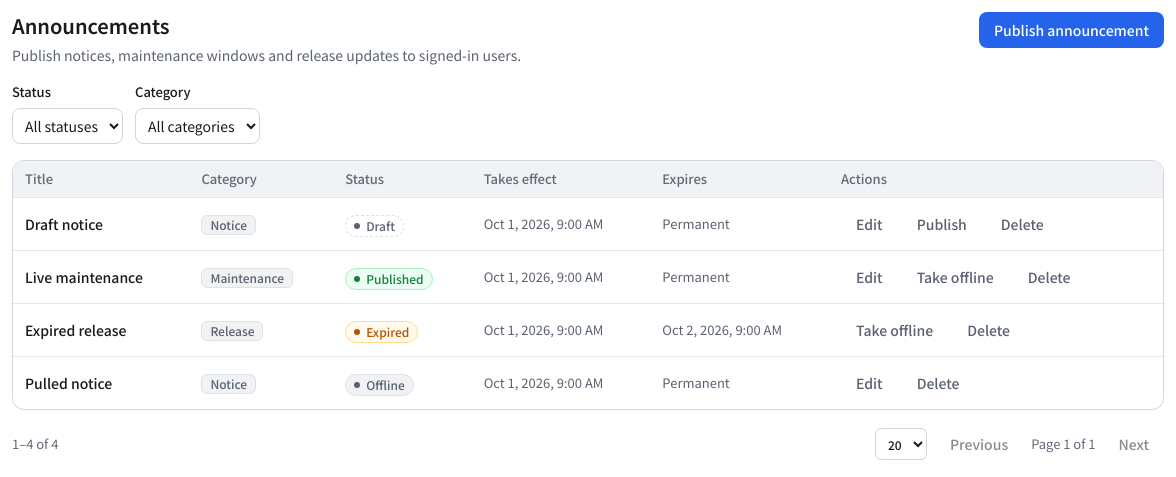
Scenario: announcements admin page (F-08-04) › takes an expired announcement offline like a published one
The width and height of the screenshot is (1176, 477).
Check: the text "Draft notice" is shown, box [25,214,103,234]
Click the button with aria-label "Take Expired release offline" at (895, 330), box [841,312,948,348]
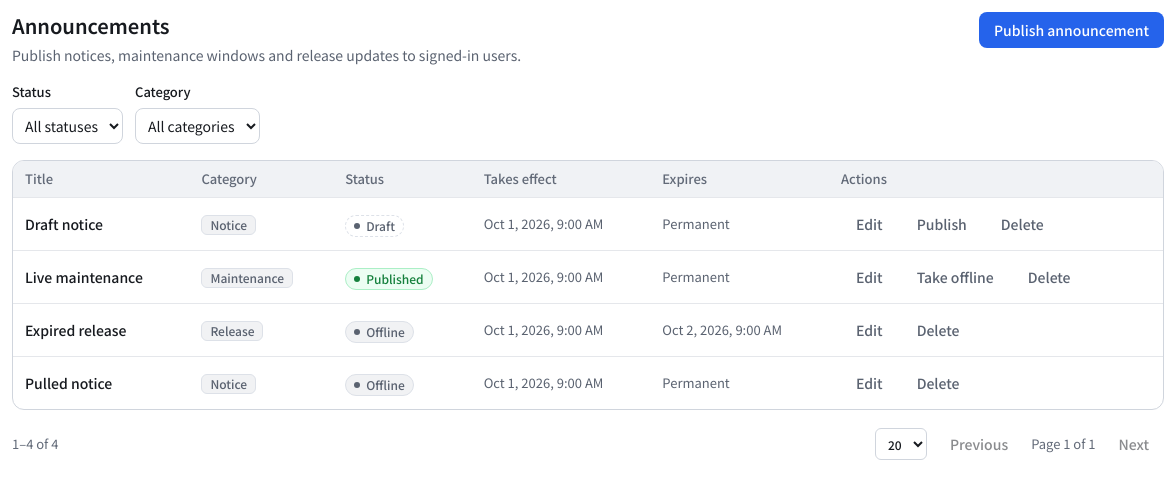
Check: the element with test id "status-badge" reads "Offline", box [366,322,405,340]
